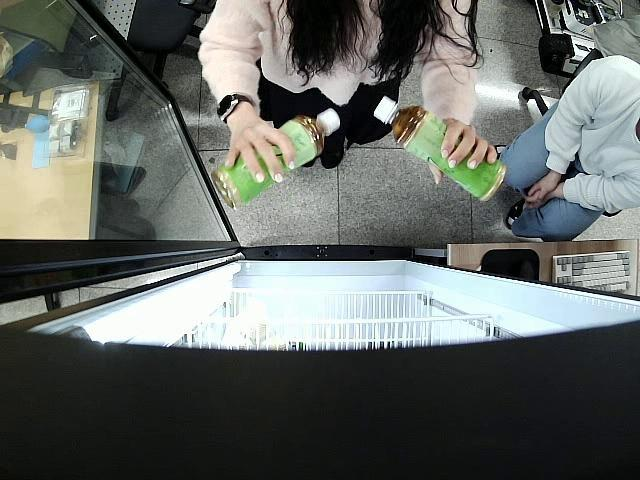19_17cha: (372, 96, 506, 202), (210, 106, 340, 208)
